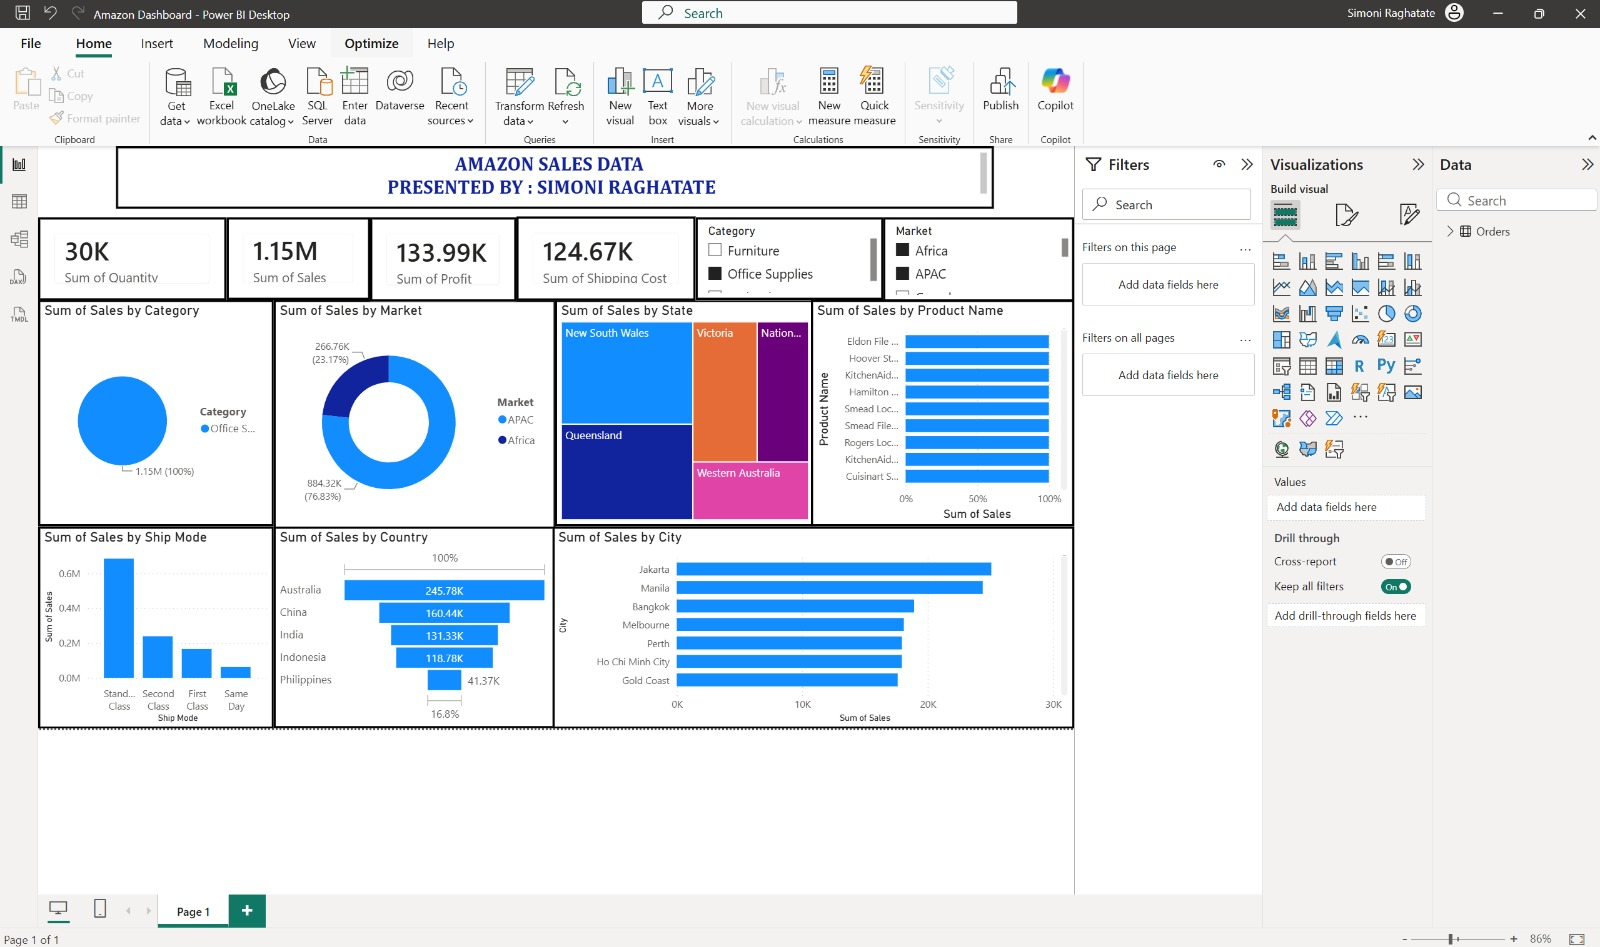

The dashboard page shown, as its layout file describes it:
{"tool":"powerbi","page":{"name":"Page 1","canvas":[1280,720],"ordinal":0},"visuals":[{"type":"pieChart","fields":{"Category":["Orders.Category"],"Y":["Sum(Orders.Sales)"]},"box":[0,190,291.2,280],"z":0},{"type":"donutChart","fields":{"Category":["Orders.Market"],"Y":["Sum(Orders.Sales)"]},"box":[291.2,190,348.8,283.8],"z":1000},{"type":"columnChart","fields":{"Category":["Orders.Ship Mode"],"Y":["Sum(Orders.Sales)"]},"box":[0,470,291.2,250],"z":2000},{"type":"barChart","fields":{"Category":["Orders.City"],"Y":["Sum(Orders.Sales)"]},"box":[635,470,645,250],"z":3000},{"type":"funnel","fields":{"Category":["Orders.Country"],"Y":["Sum(Orders.Sales)"]},"box":[290.8,470.4,347.6,249.1],"z":4000},{"type":"treemap","fields":{"Group":["Orders.State"],"Values":["Sum(Orders.Sales)"]},"box":[638.8,190,321.2,280],"z":5000},{"type":"textbox","box":[96.2,0,1084.6,77.6],"z":6000},{"type":"cardVisual","fields":{"Data":["Sum(Orders.Quantity)"]},"box":[0,87.5,232.5,102.5],"z":7000},{"type":"cardVisual","fields":{"Data":["Sum(Orders.Sales)"]},"box":[232.9,88.1,177.3,102],"z":8000},{"type":"cardVisual","fields":{"Data":["Sum(Orders.Profit)"]},"box":[410.2,88.1,180.8,104.3],"z":9000},{"type":"cardVisual","fields":{"Data":["Sum(Orders.Shipping Cost)"]},"box":[591,86.9,221.3,104.3],"z":10000},{"type":"slicer","fields":{"Values":["Orders.Category"]},"box":[812.3,88.1,231.7,102],"z":11000},{"type":"slicer","fields":{"Values":["Orders.Market"]},"box":[1043.8,87.5,236.2,103.8],"z":12000},{"type":"hundredPercentStackedBarChart","fields":{"Category":["Orders.Product Name"],"Y":["Sum(Orders.Sales)"]},"box":[955,190,325,280],"z":13000}]}

Visuals, with their boxes on the page's 1280x720 design canvas (x1, y1, x2, y2). These are canvas units, not pixel positions in the 1600x947 screenshot, which may show the page scaled, cropped or inside an application window:
pieChart - Orders.Category x Sum(Orders.Sales): left=0, top=190, right=291, bottom=470
donutChart - Orders.Market x Sum(Orders.Sales): left=291, top=190, right=640, bottom=474
columnChart - Orders.Ship Mode x Sum(Orders.Sales): left=0, top=470, right=291, bottom=720
barChart - Orders.City x Sum(Orders.Sales): left=635, top=470, right=1280, bottom=720
funnel - Orders.Country x Sum(Orders.Sales): left=291, top=470, right=638, bottom=720
treemap - Orders.State x Sum(Orders.Sales): left=639, top=190, right=960, bottom=470
textbox: left=96, top=0, right=1181, bottom=78
cardVisual - Sum(Orders.Quantity): left=0, top=88, right=232, bottom=190
cardVisual - Sum(Orders.Sales): left=233, top=88, right=410, bottom=190
cardVisual - Sum(Orders.Profit): left=410, top=88, right=591, bottom=192
cardVisual - Sum(Orders.Shipping Cost): left=591, top=87, right=812, bottom=191
slicer - Orders.Category: left=812, top=88, right=1044, bottom=190
slicer - Orders.Market: left=1044, top=88, right=1280, bottom=191
hundredPercentStackedBarChart - Orders.Product Name x Sum(Orders.Sales): left=955, top=190, right=1280, bottom=470
